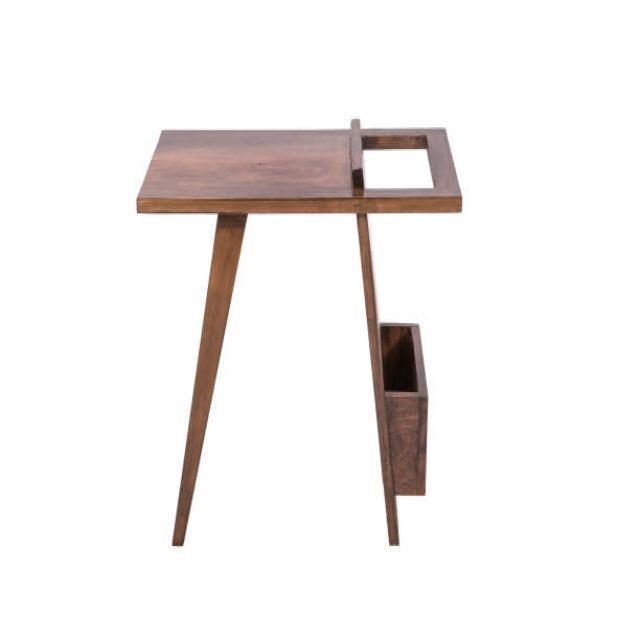table: (135, 118, 462, 548)
